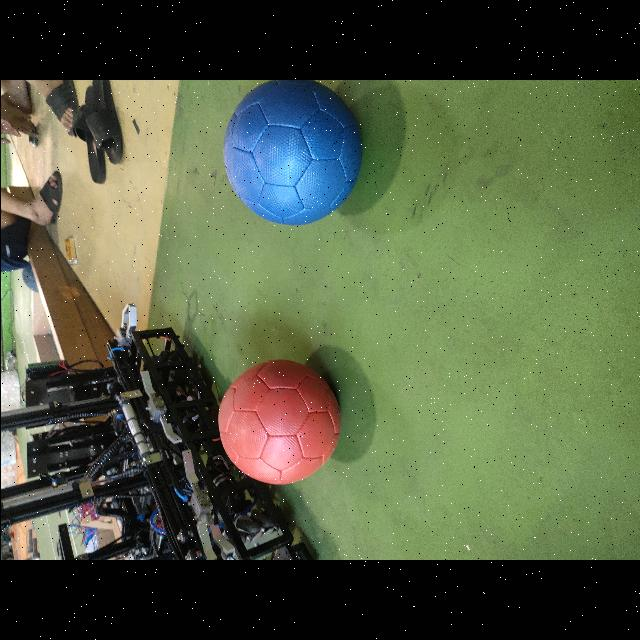B: (223, 80, 361, 226)
R: (218, 360, 339, 485)
